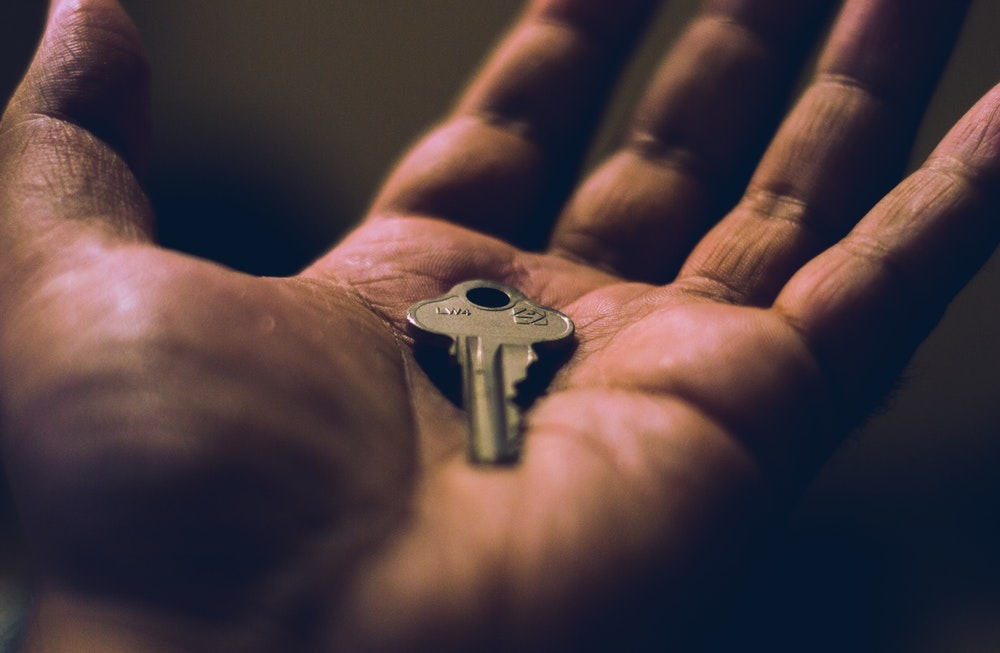palm: (205, 195, 729, 615)
